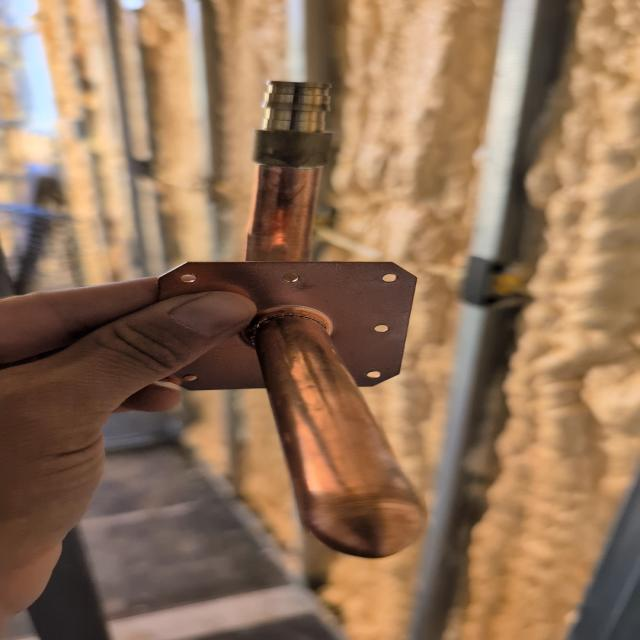wall_flange: (138, 63, 461, 582)
